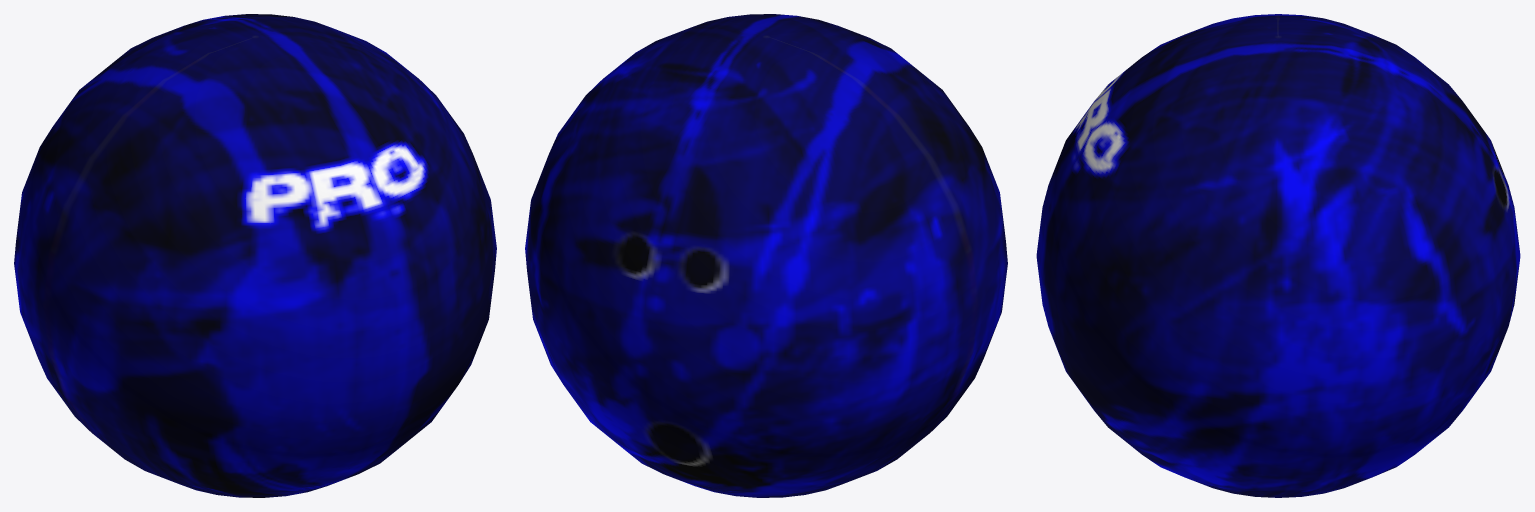
The model's file is Ball08.fbx.
3 views of the same model, side by side, from view 1: azimuth 30°, elevation 25°; view 2: azimuth 150°, elevation 25°; view 3: azimuth 270°, elevation 25° (orthographic).
Parts seen in each view (by area): view 1: Empty_Mesh; view 2: Empty_Mesh; view 3: Empty_Mesh.
Boxes of the visible parts, x1=… form: Empty_Mesh: x1=14, y1=14, x2=496, y2=497; Empty_Mesh: x1=525, y1=14, x2=1007, y2=497; Empty_Mesh: x1=1036, y1=14, x2=1520, y2=497.
Bounding box in the file's own units: 0.2266 × 0.2266 × 0.2266.
